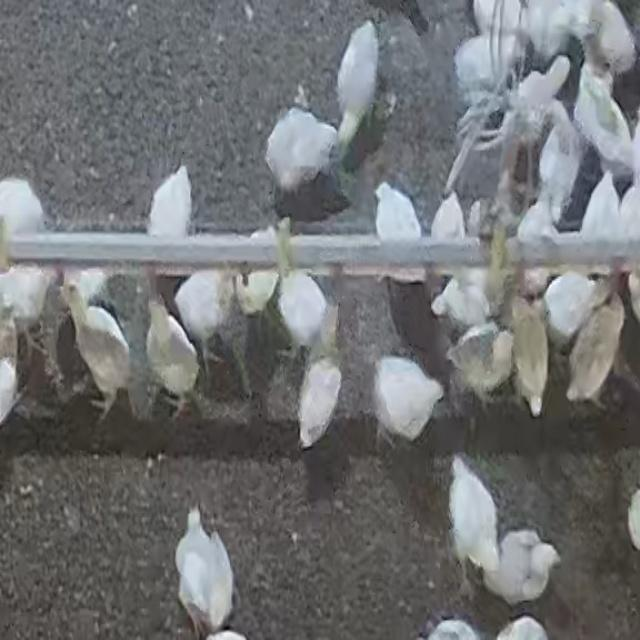chicken: (63, 284, 129, 414), (173, 504, 237, 638), (142, 284, 203, 422), (172, 267, 235, 398), (563, 288, 624, 412), (296, 306, 344, 450), (573, 66, 633, 178), (371, 354, 443, 447), (448, 454, 501, 580), (445, 322, 513, 414), (481, 529, 560, 607), (266, 110, 336, 194), (0, 261, 55, 366), (338, 19, 383, 141), (508, 293, 548, 414), (510, 59, 570, 132), (277, 269, 327, 354), (457, 39, 523, 101), (540, 128, 582, 222), (146, 164, 194, 242), (431, 273, 504, 323), (578, 170, 624, 244), (544, 276, 601, 334), (1, 178, 46, 242), (372, 184, 416, 240), (430, 190, 466, 242)
